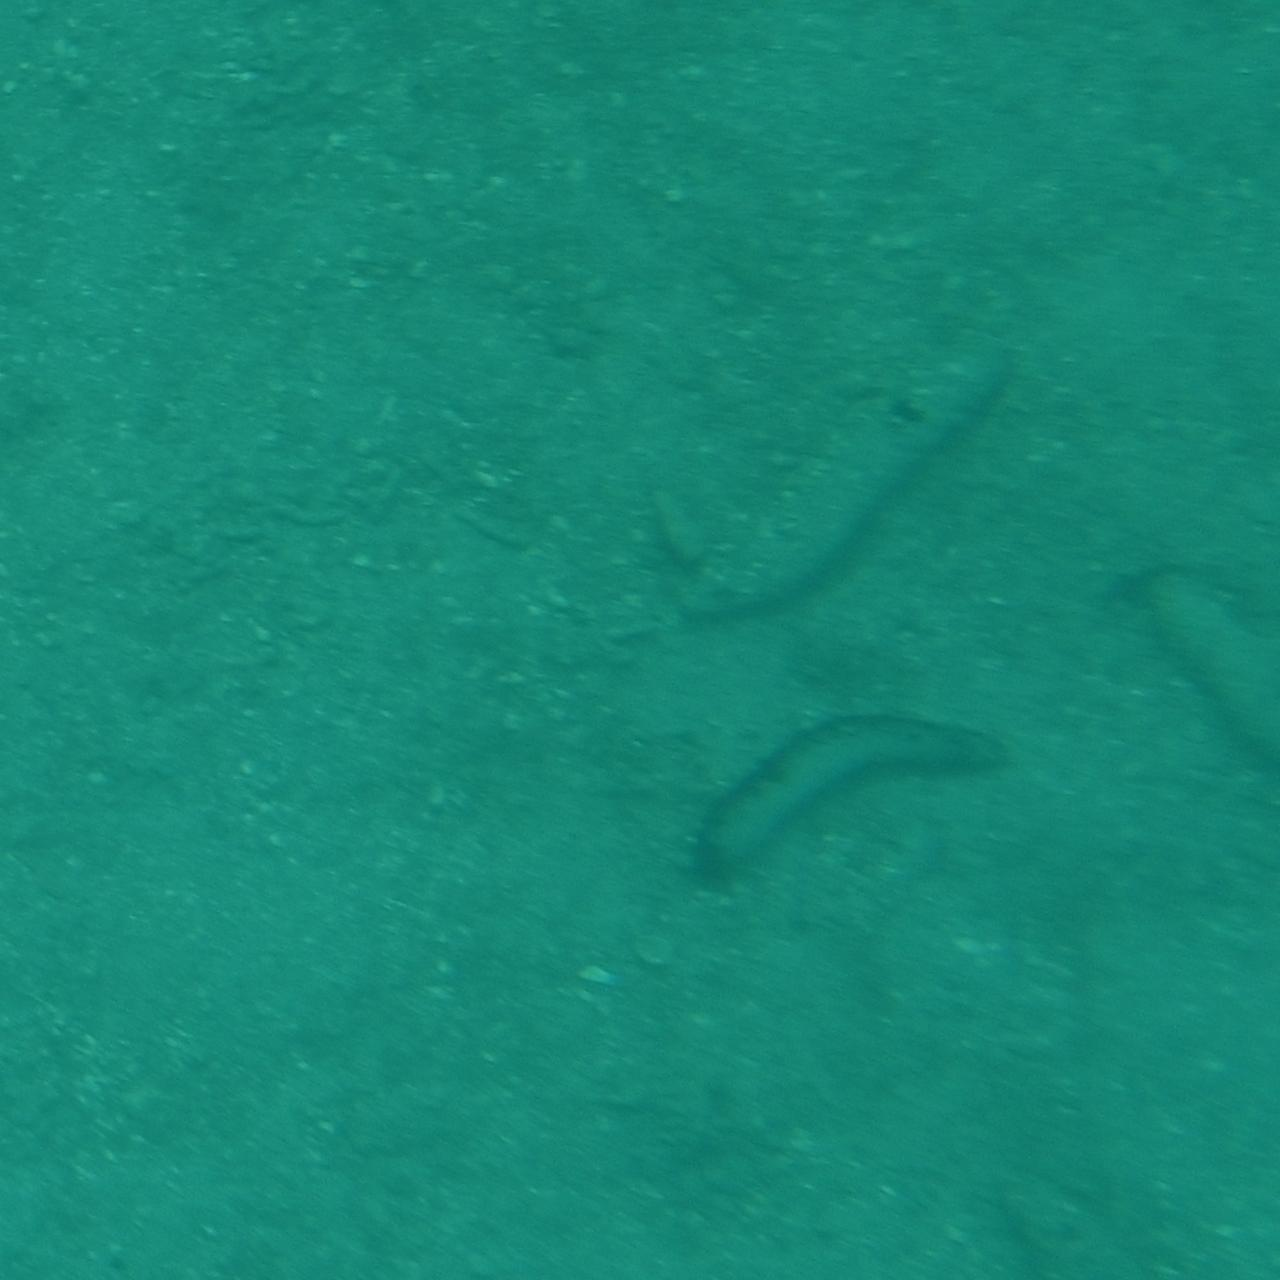Holothuria tubulosa: (656, 327, 1043, 628), (663, 709, 1027, 894), (1129, 553, 1280, 804)
